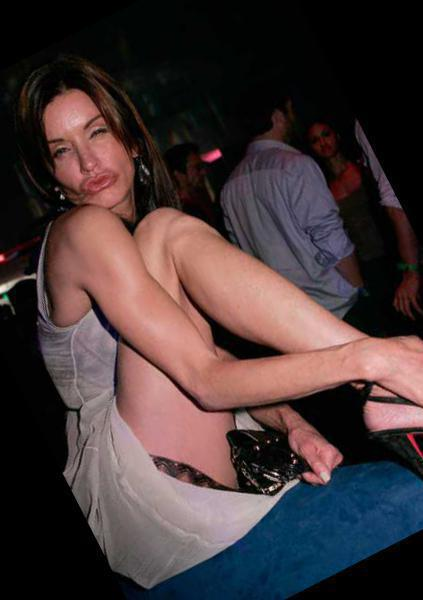Drunk: (39, 94, 136, 206)
